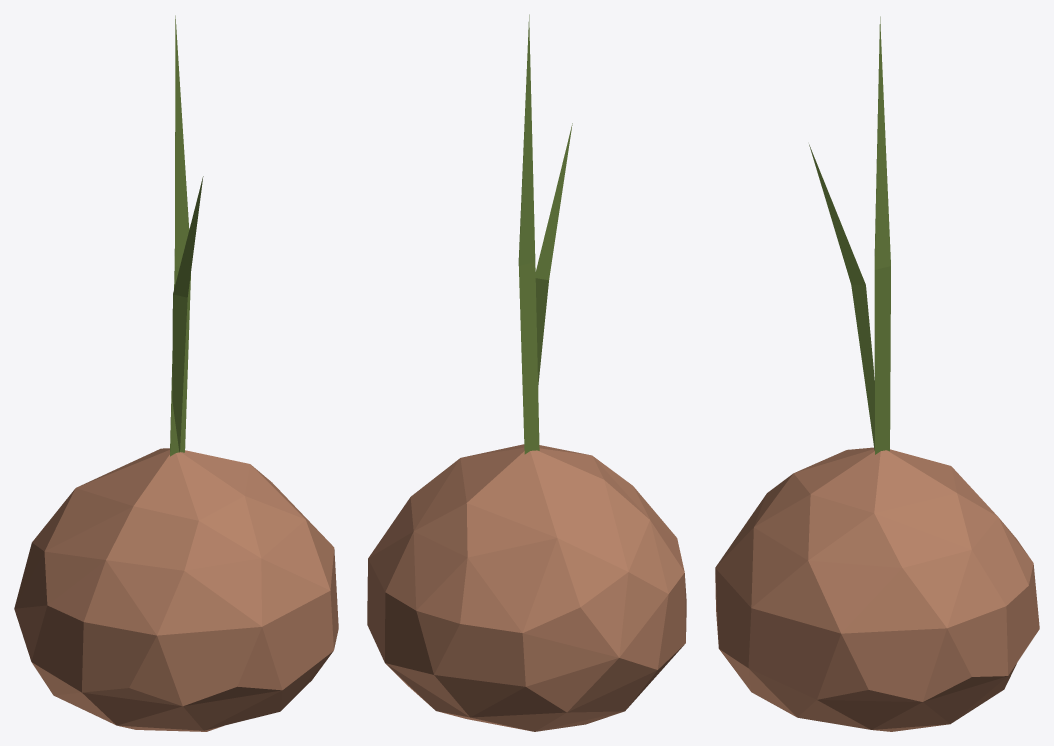
The model's file is Onion.glb.
3 views of the same model, side by side, from view 1: azimuth 30°, elevation 25°; view 2: azimuth 150°, elevation 25°; view 3: azimuth 270°, elevation 25° (orthographic).
Parts seen in each view (by area): view 1: Onion; view 2: Onion; view 3: Onion.
Boxes of the visible parts, left/top/right/bottom form: Onion: left=14, top=15, right=338, bottom=731; Onion: left=367, top=14, right=686, bottom=731; Onion: left=715, top=16, right=1039, bottom=731.
Bounding box in the file's own units: 0.1665 × 0.3872 × 0.1674.
Materials: 1 (1 with a texture image).
